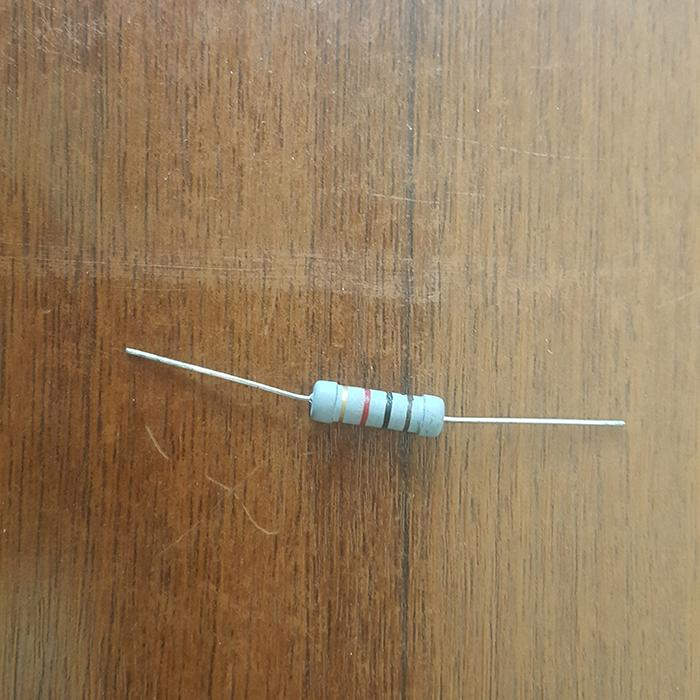resistor: (307, 379, 447, 436)
